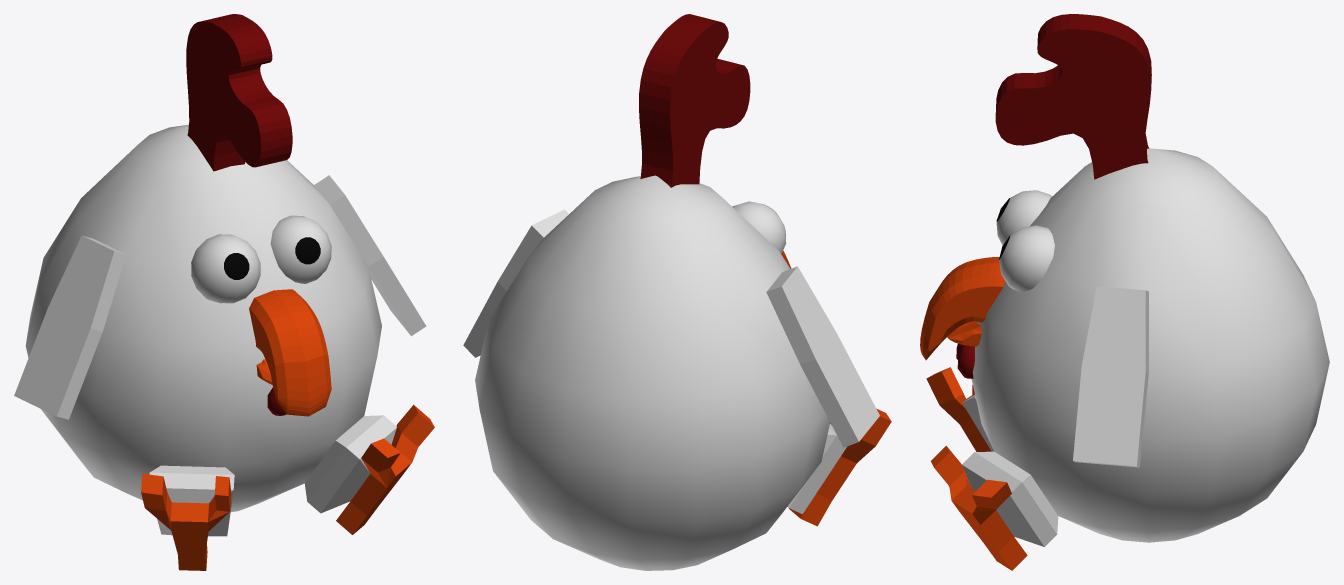
Rendered from poulet.FBX.
3 views of the same model, side by side, from view 1: azimuth 30°, elevation 25°; view 2: azimuth 150°, elevation 25°; view 3: azimuth 270°, elevation 25° (orthographic).
Visible parts, largest first — view 1: poulet; view 2: poulet; view 3: poulet.
Part boxes in pixels (x1=…): poulet: x1=14, y1=14, x2=434, y2=570; poulet: x1=463, y1=14, x2=891, y2=570; poulet: x1=920, y1=14, x2=1329, y2=570.
Bounding box in the file's own units: 126 × 153 × 113.
